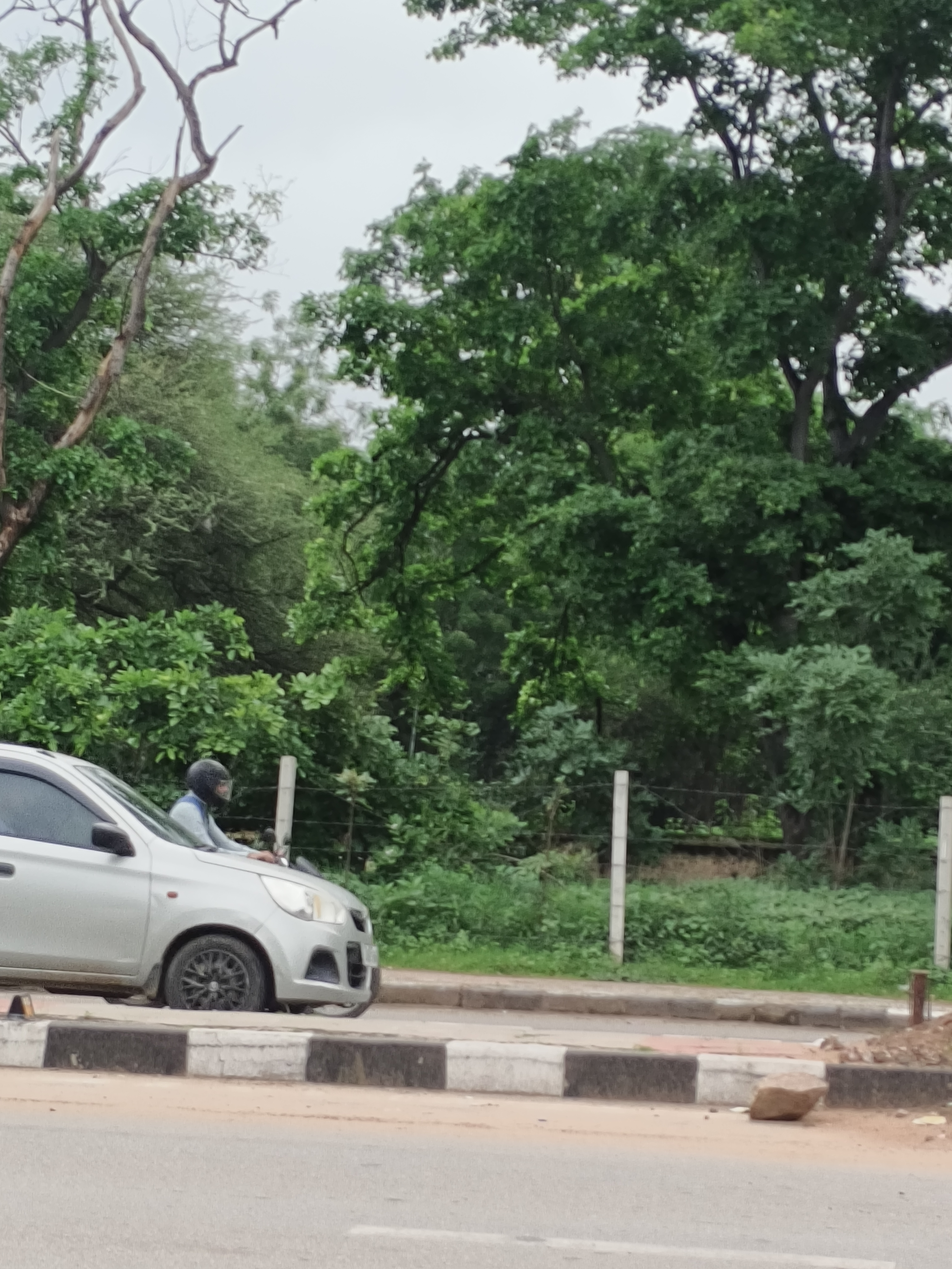BikeWithRider: (125, 741, 334, 983), (173, 755, 332, 880)
Helmet: (181, 753, 240, 811)
